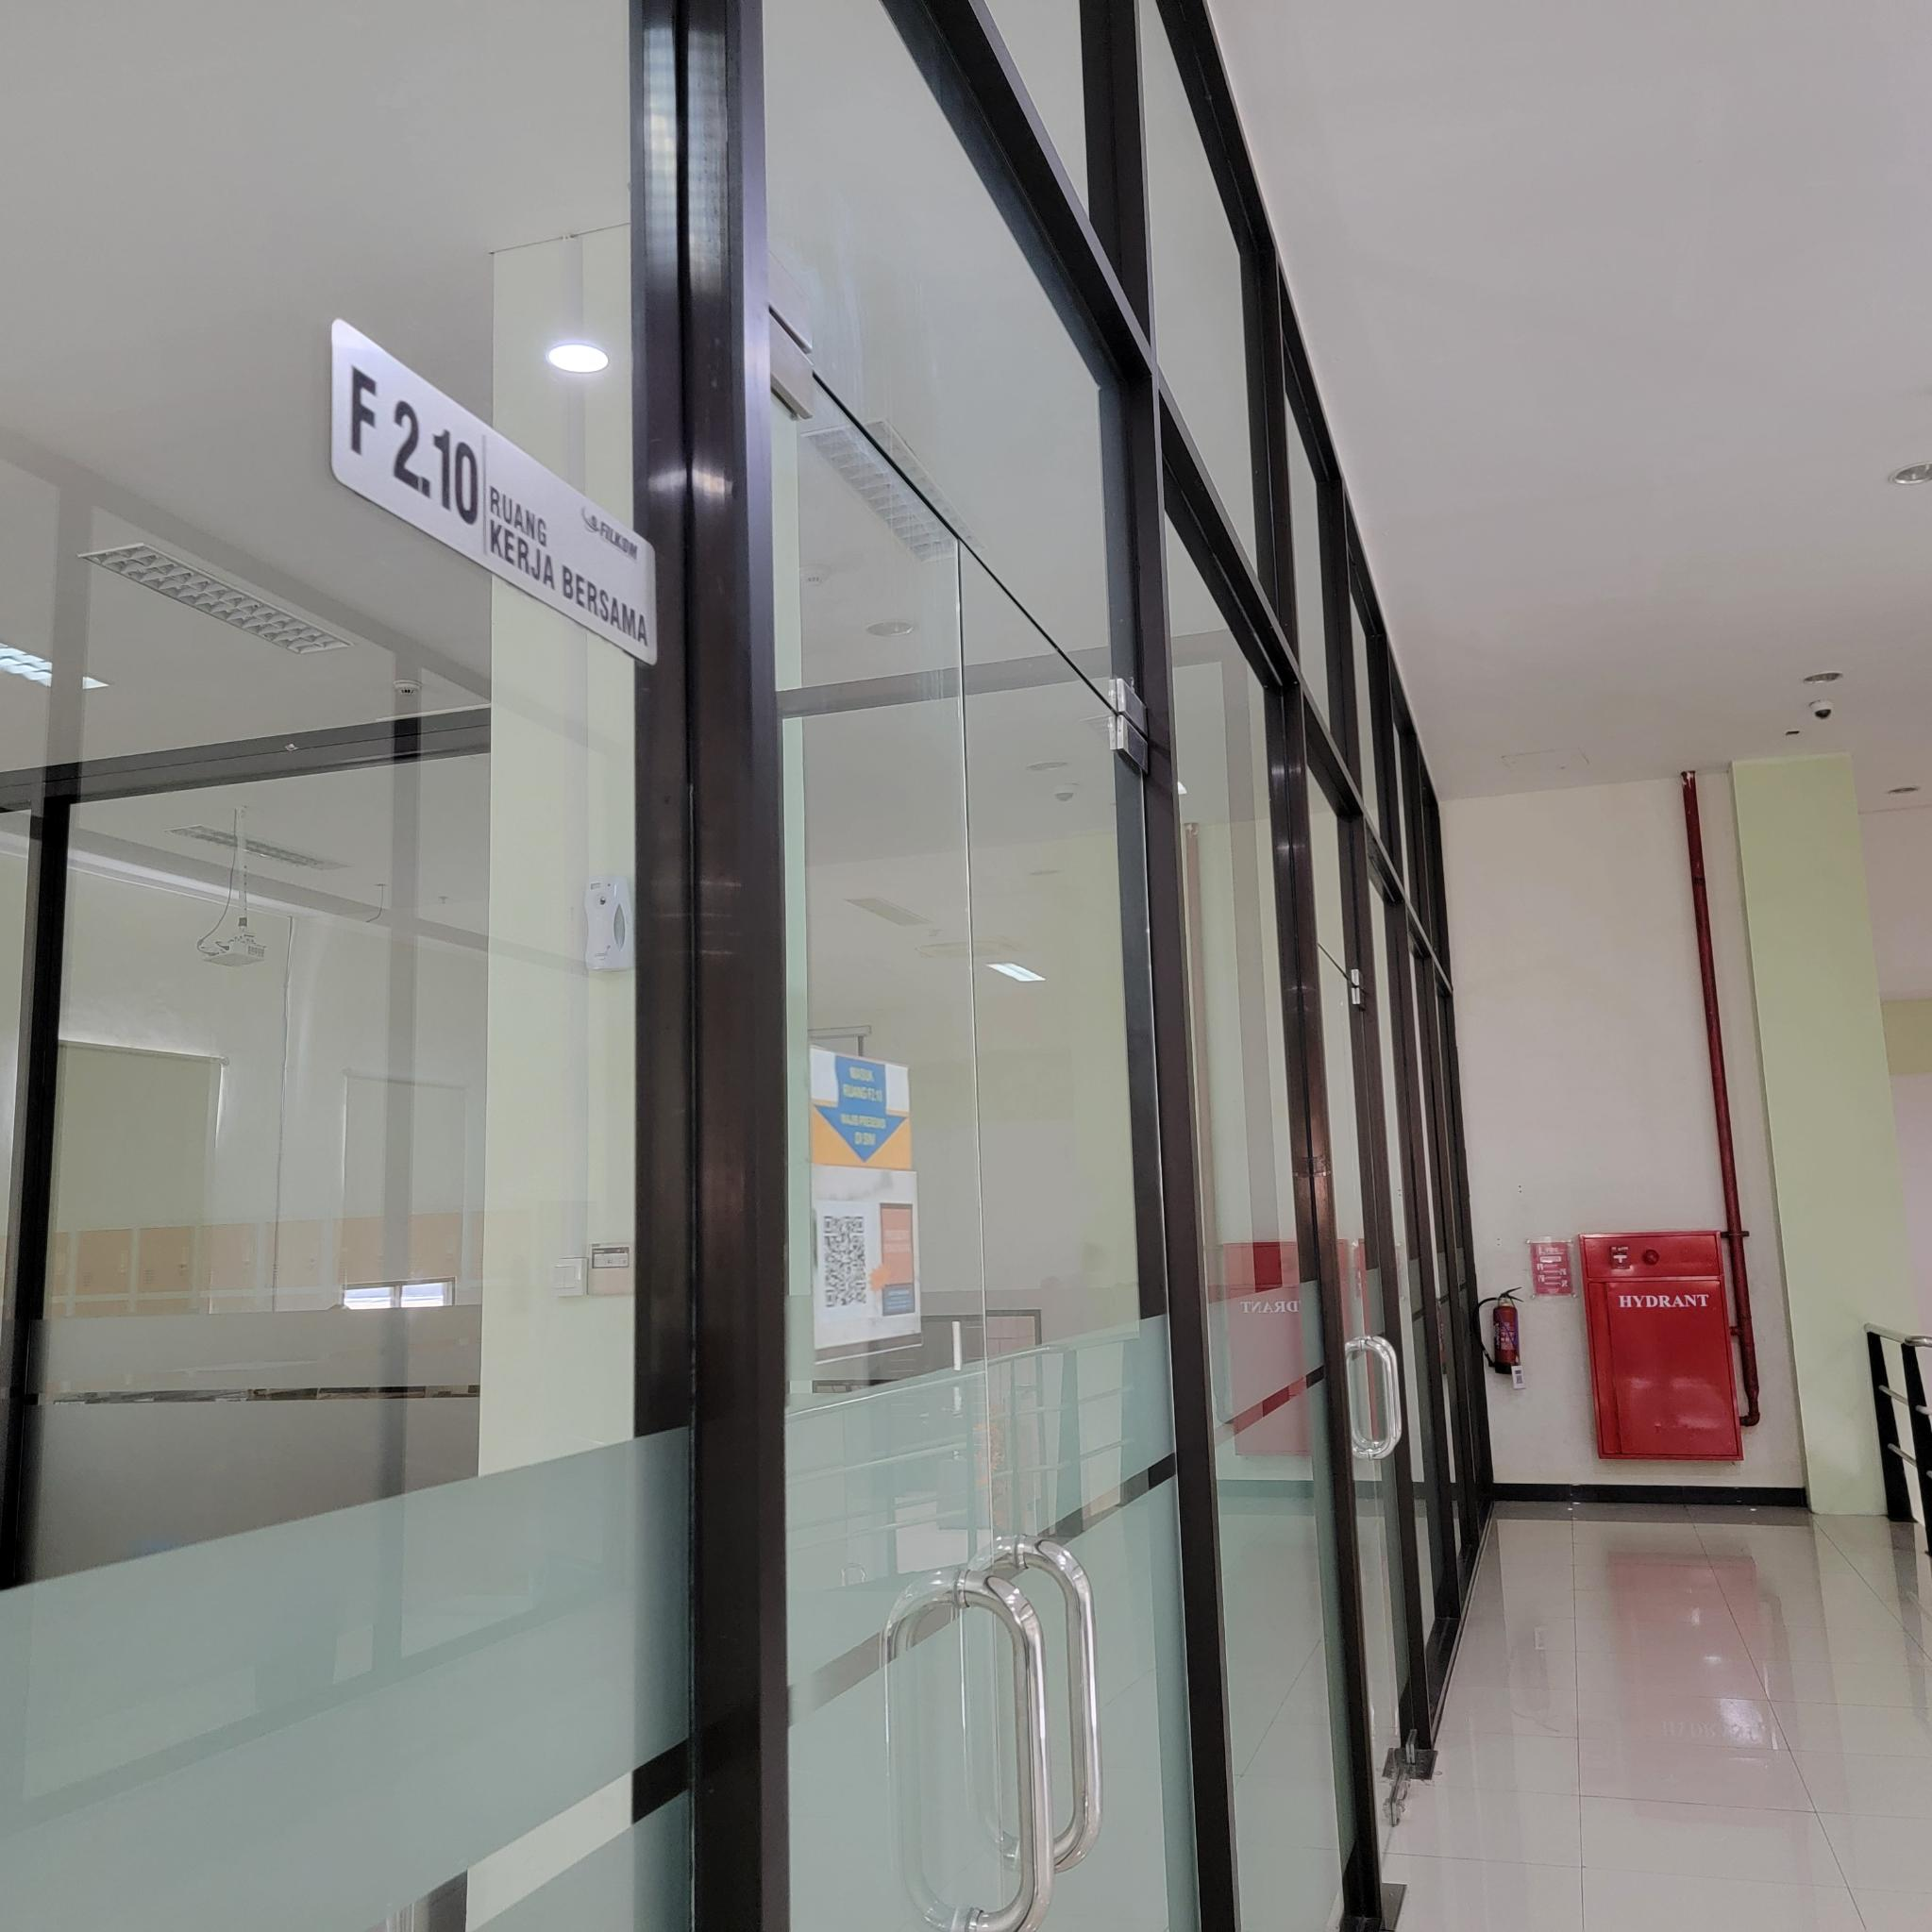plate: (331, 308, 660, 676)
